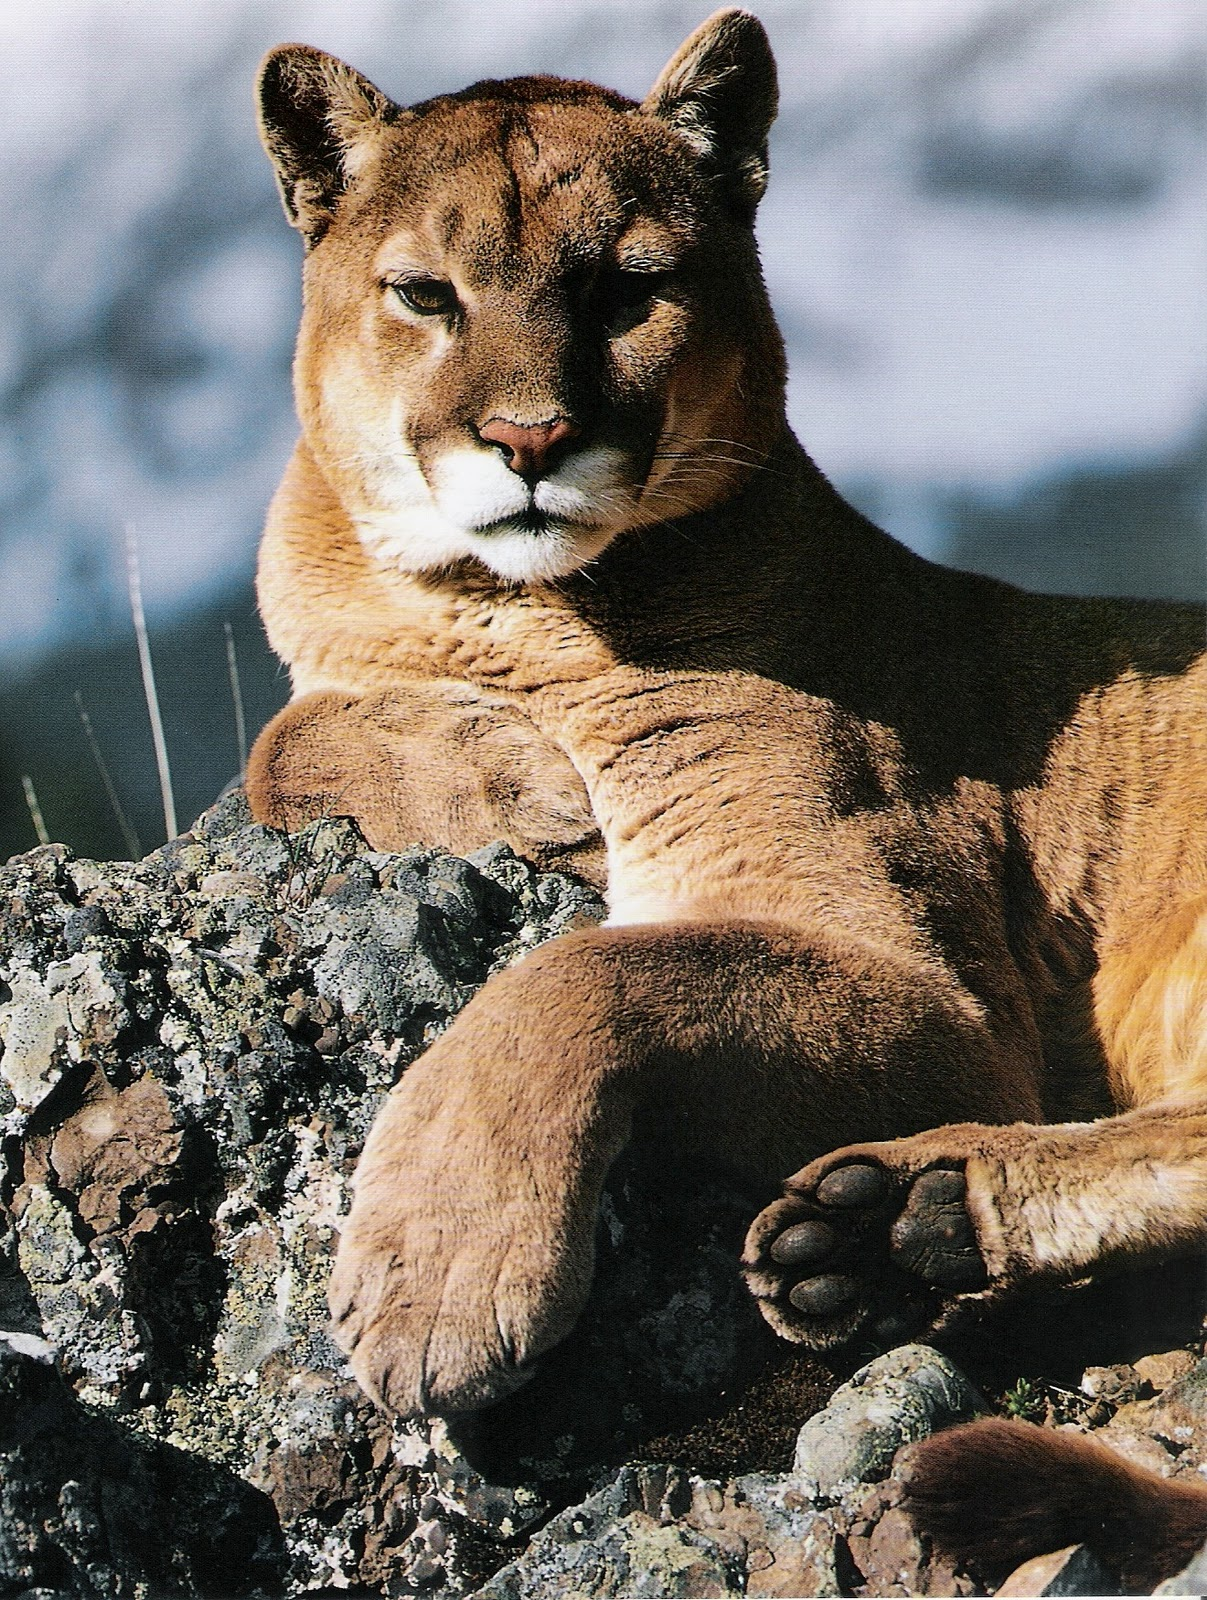OncaParda: (199, 4, 1191, 1572)
